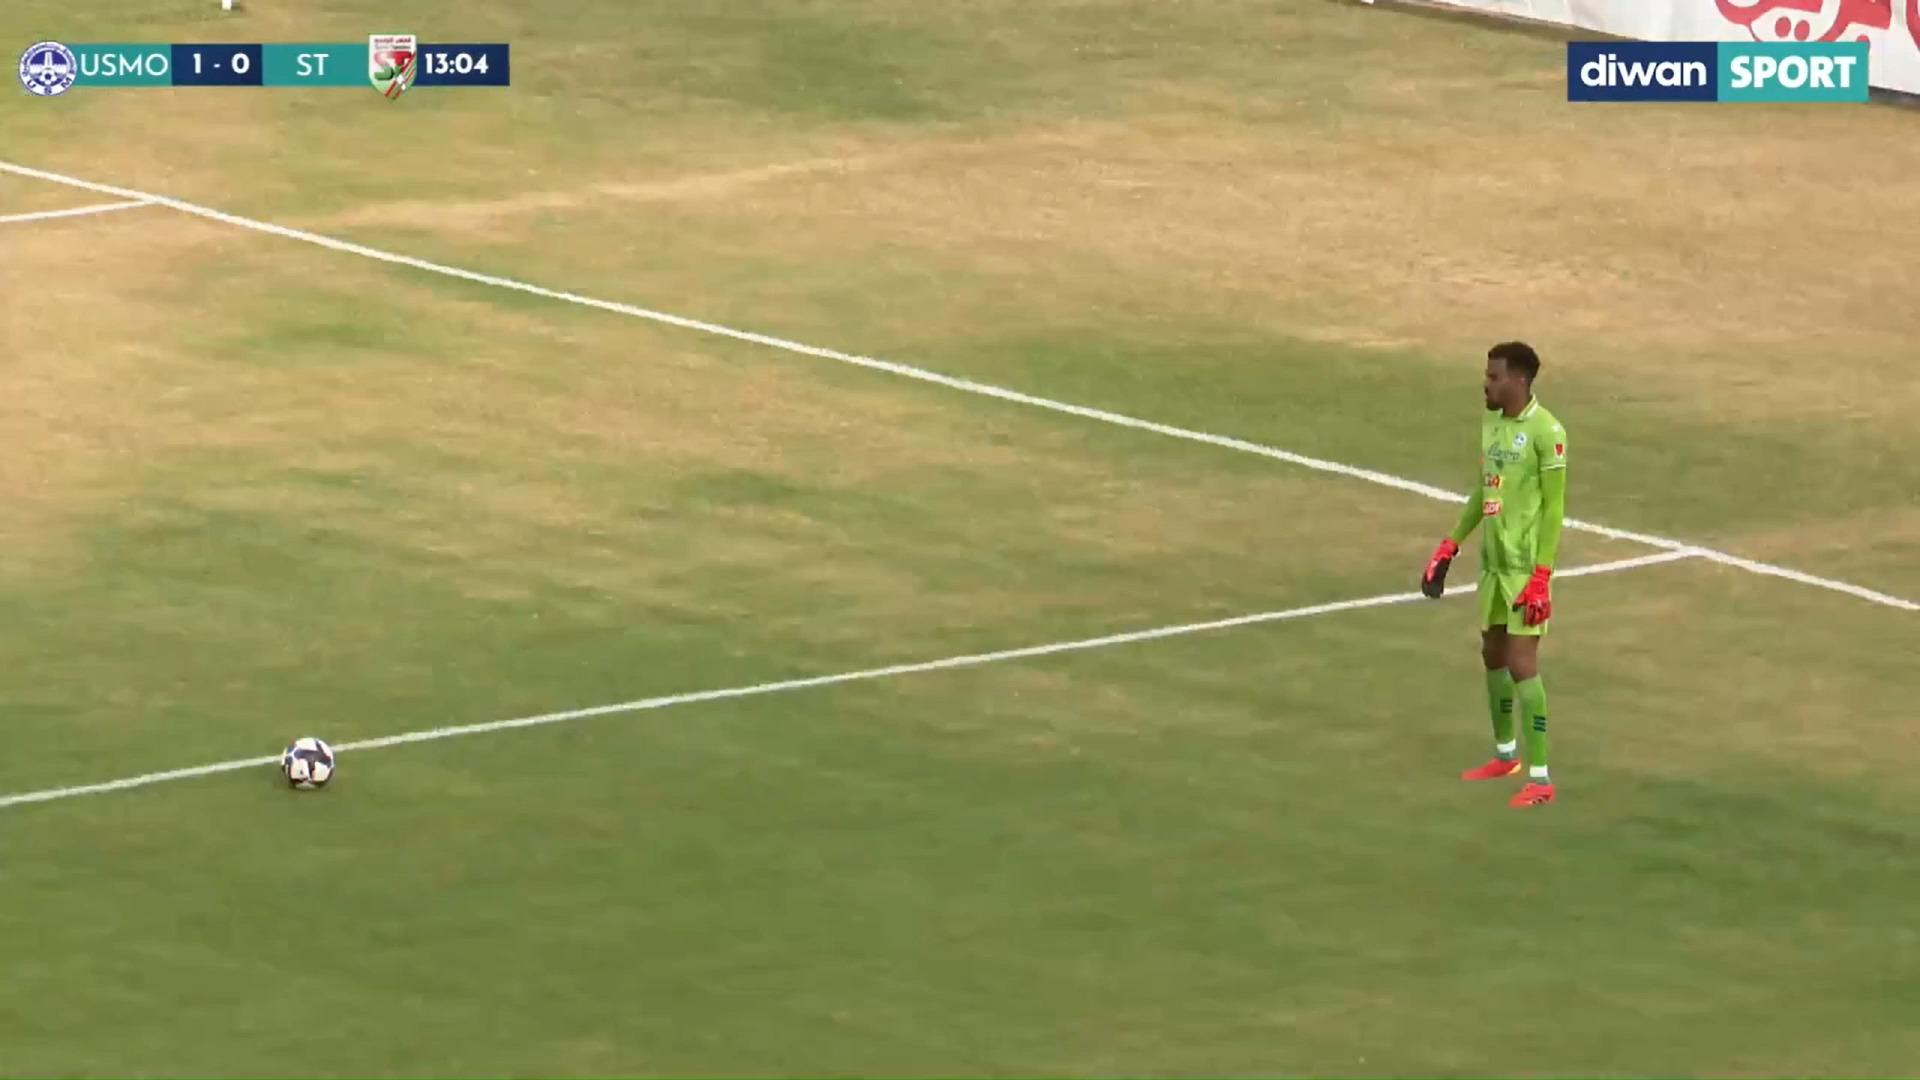ball: (281, 723, 339, 796)
goalkeeper: (1352, 302, 1725, 853)
